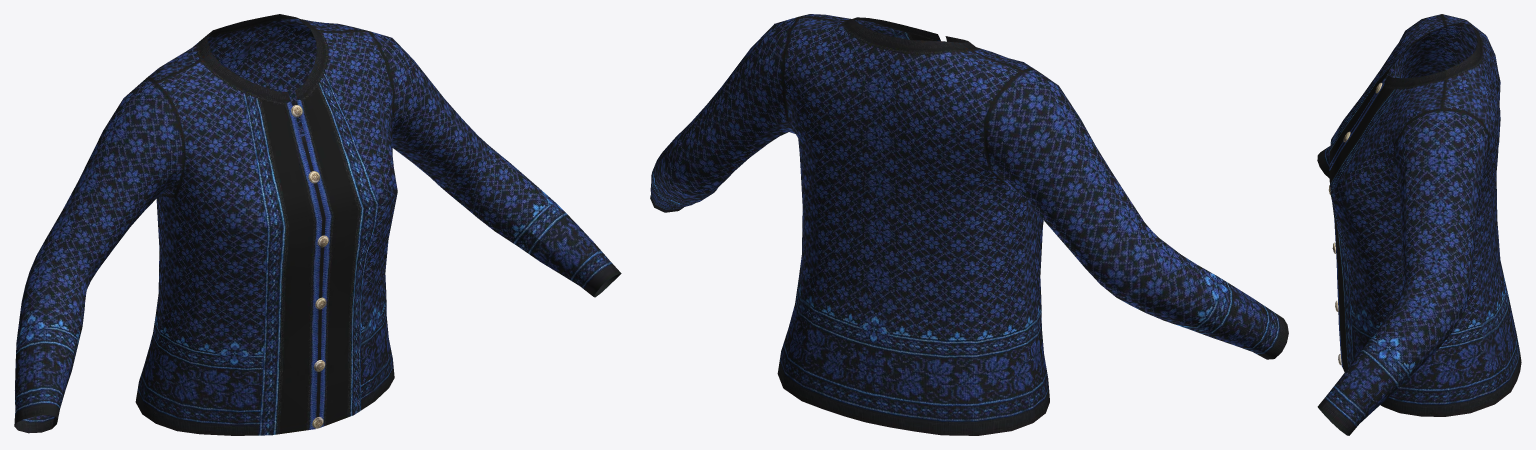
The model's file is mindfront-lusekofta.glb.
3 renders of one model, left to right at view 1: azimuth 30°, elevation 25°; view 2: azimuth 150°, elevation 25°; view 3: azimuth 270°, elevation 25°, orthographic. The views are drawn at different scales.
Parts seen in each view (by area): view 1: lusekofta; view 2: lusekofta; view 3: lusekofta.
Part boxes in pixels (bbox=[...]): lusekofta: bbox=[14, 14, 621, 435]; lusekofta: bbox=[650, 14, 1288, 435]; lusekofta: bbox=[1317, 14, 1521, 435].
Bounding box in the file's own units: 90.38 × 50.8 × 28.91.
1 material, 1 textured.
